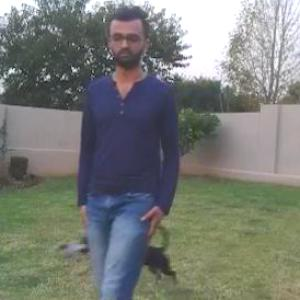follow: (75, 12, 174, 299)
